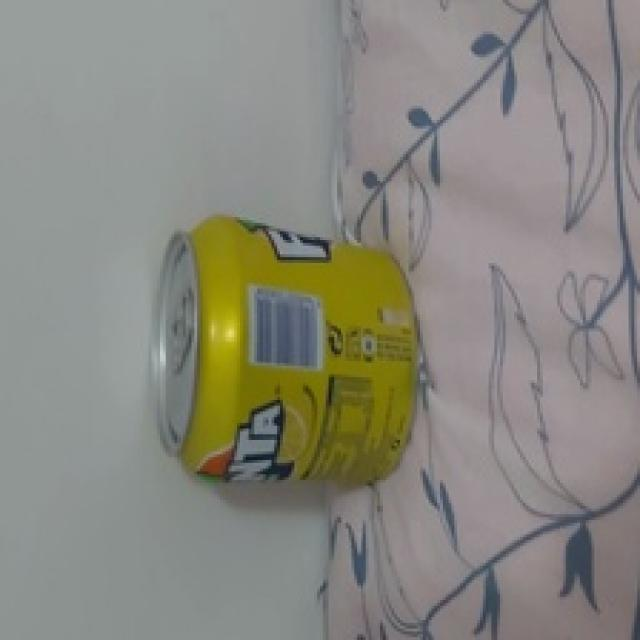recyclable: (154, 212, 422, 486)
